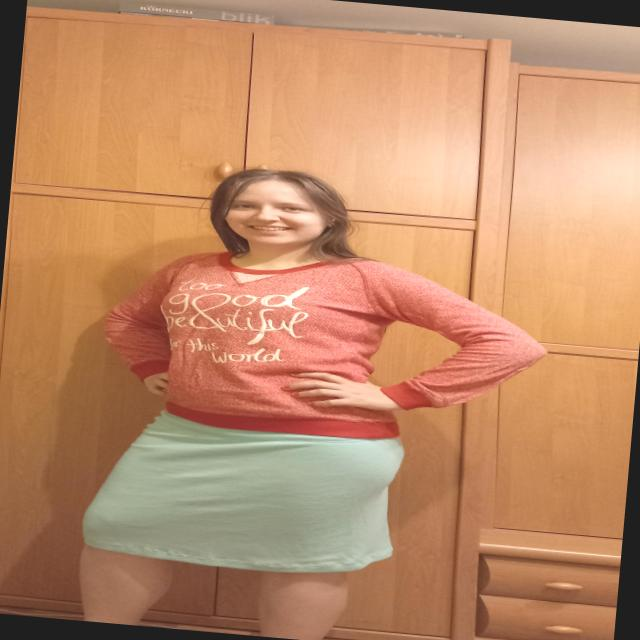skirt: (79, 404, 408, 583)
sweater: (96, 237, 553, 456)
